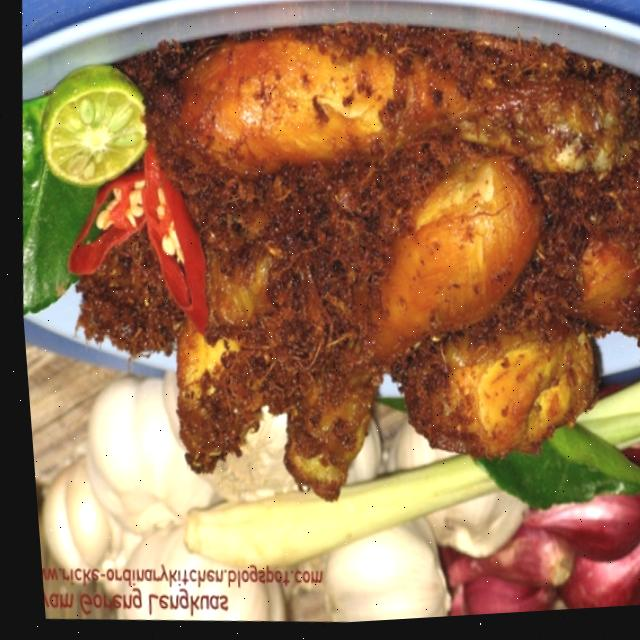鸡肉料理 含炸鸡: (17, 0, 640, 570)
